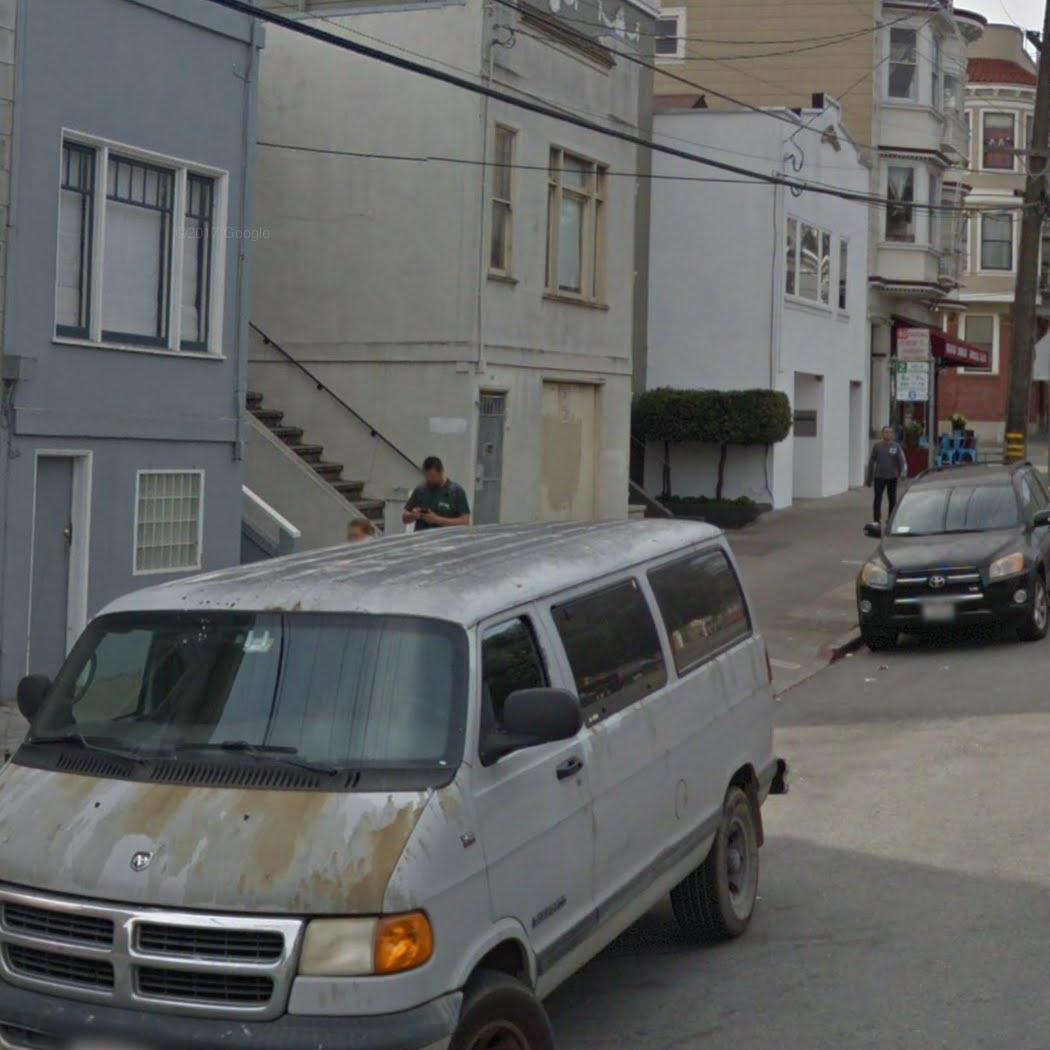2 Hour Parking: (894, 361, 929, 402)
No Parking: (896, 326, 931, 362)
